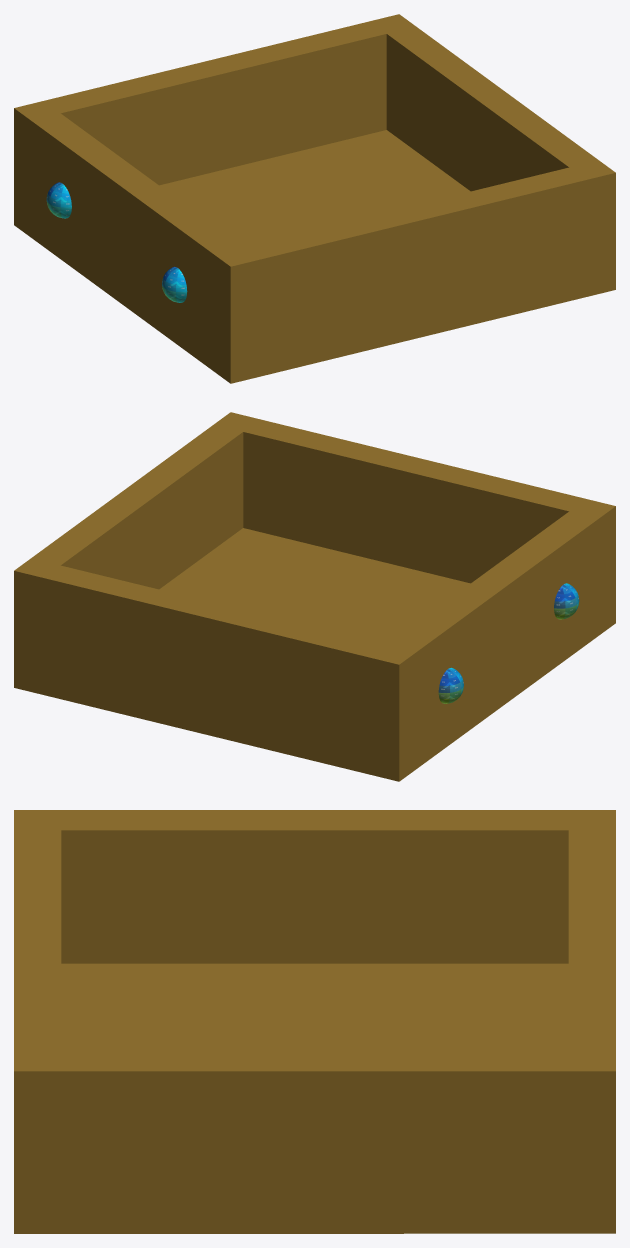
Rendered from cajon de mesa.fbx.
3 renders of one model, top to bottom at view 1: azimuth 30°, elevation 25°; view 2: azimuth 150°, elevation 25°; view 3: azimuth 270°, elevation 25°, orthographic. The views are drawn at different scales.
Parts seen in each view (by area): view 1: Box016; view 2: Box016; view 3: Box016.
Part boxes in pixels (<box>): Box016: <box>14,14,615,383</box>; Box016: <box>14,412,615,781</box>; Box016: <box>14,810,615,1233</box>.
Size of the model in its own units: 74.32 by 20.85 by 69.95.
Materials: 2 (1 with a texture image).
